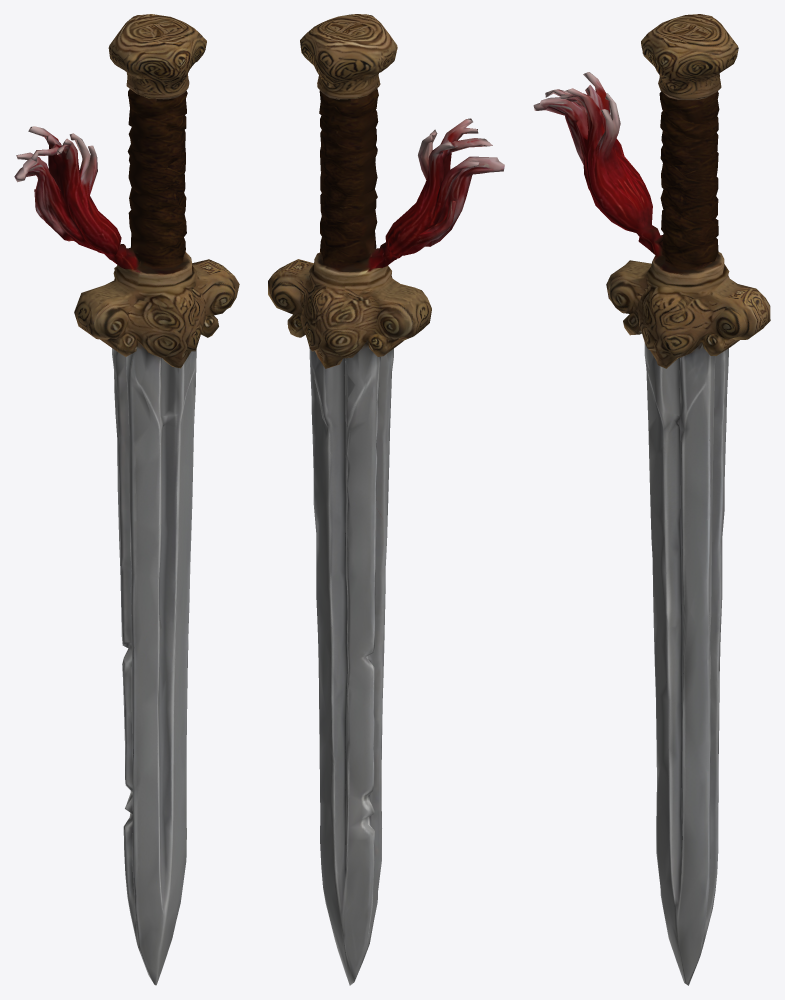
File: sword.glb
The picture shows the model from 3 angles, left to right: view 1: azimuth 30°, elevation 25°; view 2: azimuth 150°, elevation 25°; view 3: azimuth 330°, elevation 25°; orthographic projection.
Parts seen in each view (by area): view 1: Sword; view 2: Sword; view 3: Sword.
Part boxes in pixels (x1,y1,x2,y2): Sword: (14,14,239,985); Sword: (268,14,504,985); Sword: (533,14,770,985).
Size of the model in its own units: 0.2635 by 1.08 by 0.1277.
1 material, 1 textured.
